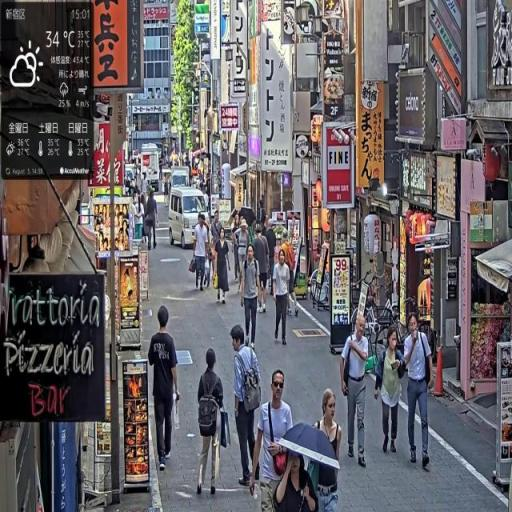person: (252, 370, 296, 512), (149, 305, 183, 476), (232, 321, 264, 495), (400, 312, 434, 471), (340, 313, 371, 469), (197, 346, 228, 499), (375, 328, 409, 457), (315, 387, 345, 512), (275, 446, 320, 512), (240, 240, 264, 349), (273, 247, 291, 348), (192, 214, 211, 293), (215, 229, 233, 307), (145, 190, 159, 251)
